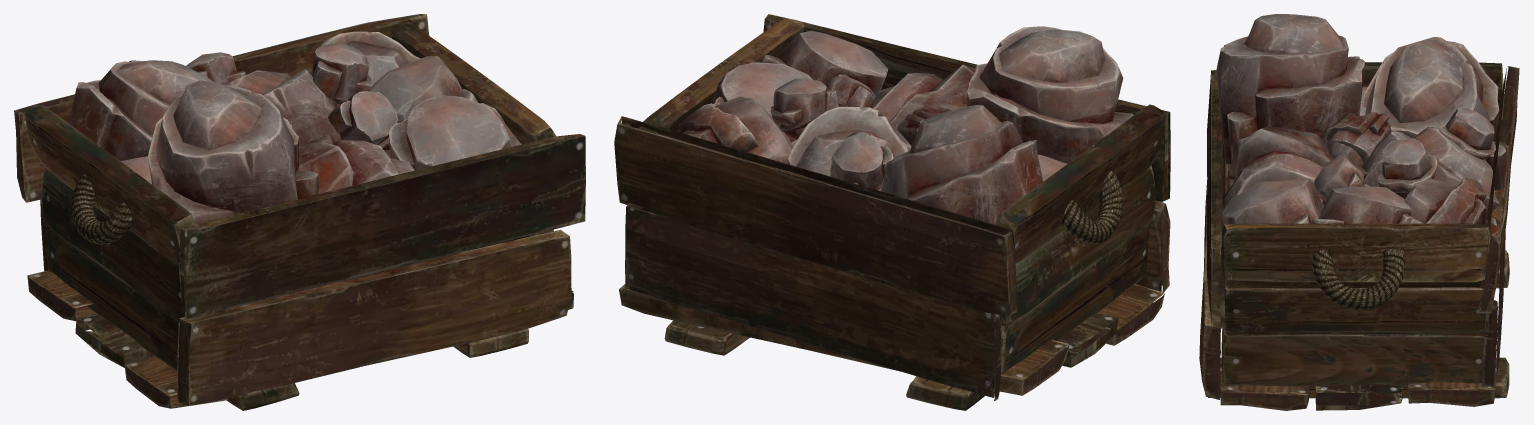
3 renders of one model, left to right at view 1: azimuth 30°, elevation 25°; view 2: azimuth 150°, elevation 25°; view 3: azimuth 270°, elevation 25°, orthographic. The views are drawn at different scales.
Parts seen in each view (by area): view 1: SM_Dec_Garou_Chest_Iron_Small_LOD0; view 2: SM_Dec_Garou_Chest_Iron_Small_LOD0; view 3: SM_Dec_Garou_Chest_Iron_Small_LOD0.
Part boxes in pixels (x1=…): SM_Dec_Garou_Chest_Iron_Small_LOD0: x1=14, y1=14, x2=585, y2=410; SM_Dec_Garou_Chest_Iron_Small_LOD0: x1=614, y1=14, x2=1170, y2=410; SM_Dec_Garou_Chest_Iron_Small_LOD0: x1=1199, y1=14, x2=1519, y2=410.
Size of the model in its own units: 0.9929 by 0.6132 by 0.6922.
Materials: 3 (3 with a texture image).
